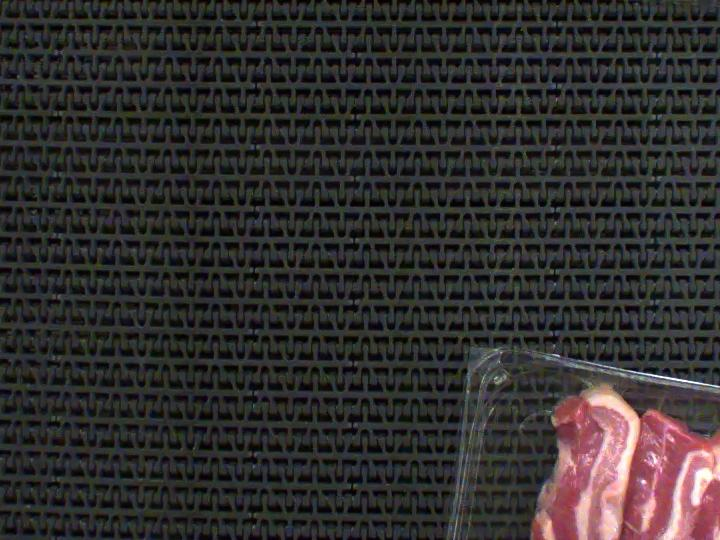packaging-error: (572, 372, 634, 397)
